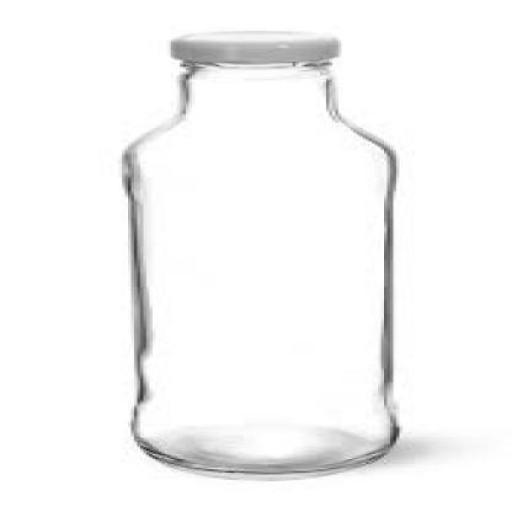glass: (137, 58, 396, 471)
metal: (176, 29, 342, 65)
